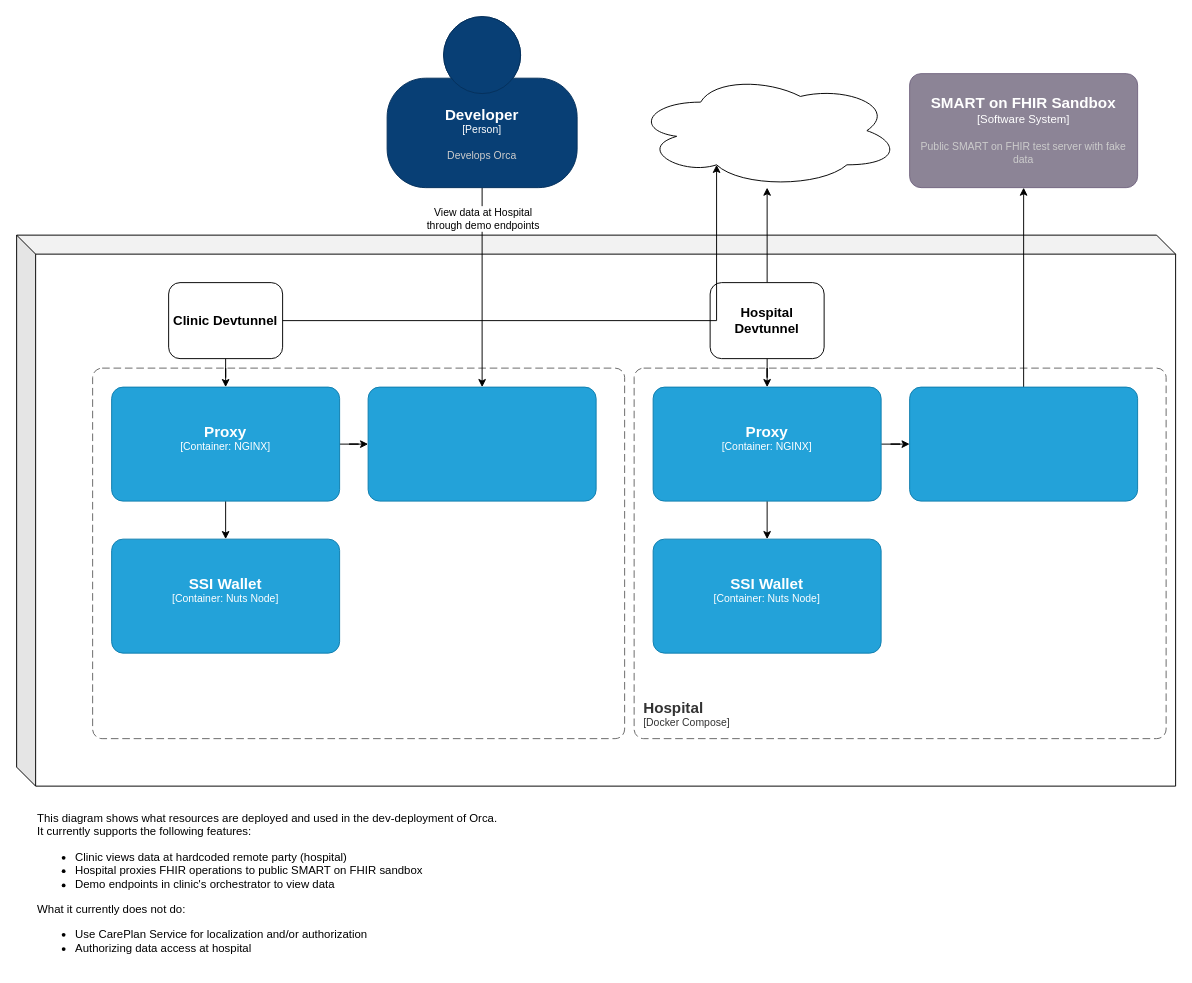
The diagram is 1192 pixels wide and 983 high, and some of its shapes have lost their labels. Here are the shapes that lost their labels. From the top down, the box of each, then its label:
(633, 73, 900, 188): Microsoft Devtunnel
(367, 386, 596, 501): Orchestrator [Container: Orchestrator]
(909, 386, 1138, 501): SMART on FHIR Adapter [Container: SMART on FHIR Adapter]
(16, 234, 1176, 786): Developer Workstation
(92, 367, 625, 739): Clinic [Docker Compose]
